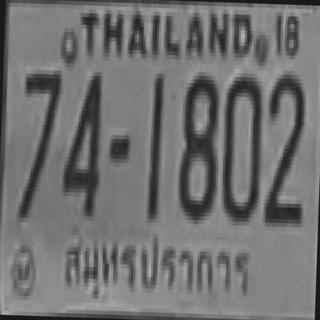N00: (219, 72, 261, 218)
N01: (146, 72, 162, 217)
N02: (264, 70, 304, 224)
N04: (60, 67, 100, 212)
N07: (18, 67, 60, 217)
N08: (177, 71, 217, 216)
P57: (59, 228, 255, 308)
